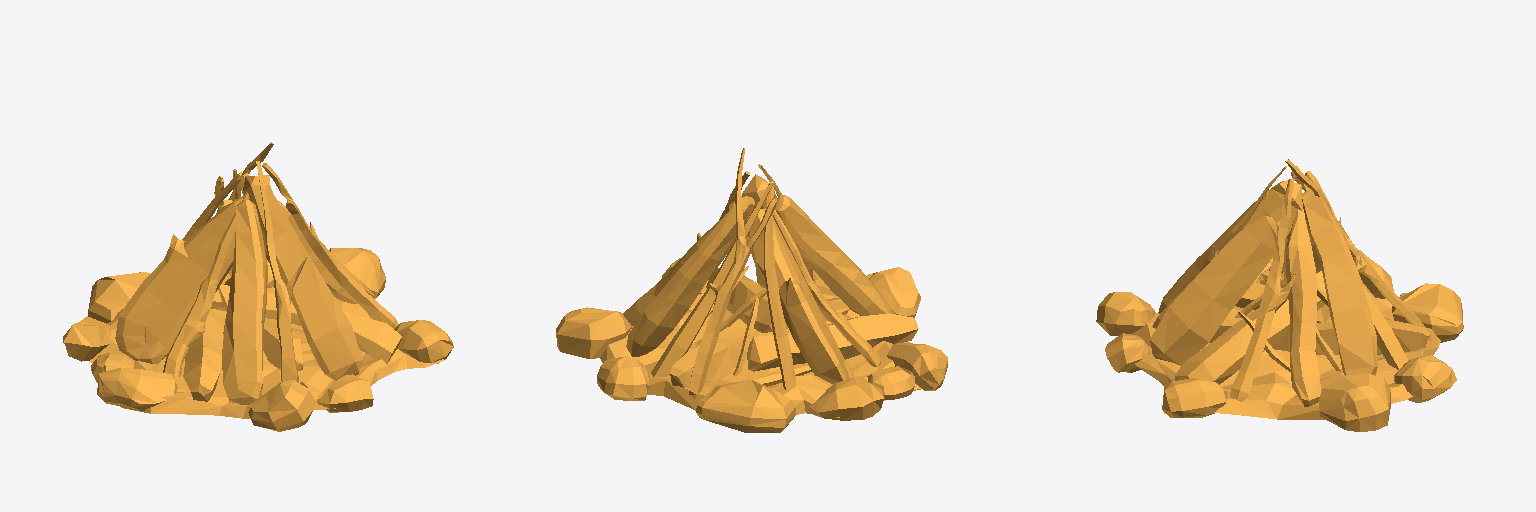
The picture shows the model from 3 angles: view 1: azimuth 30°, elevation 25°; view 2: azimuth 150°, elevation 25°; view 3: azimuth 270°, elevation 25°; orthographic projection.
Bounding box in the file's own units: 97.99 × 60.11 × 94.05.
Materials: 1 (1 with a texture image).